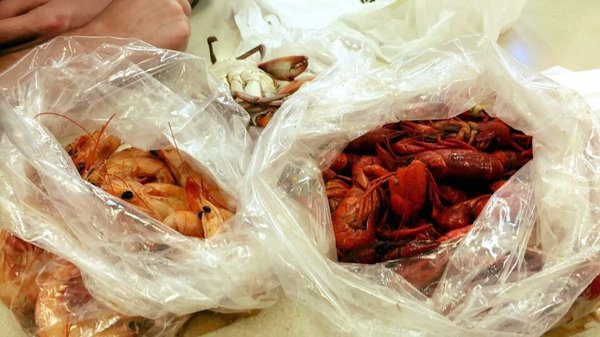pizza: (0, 2, 193, 55)
